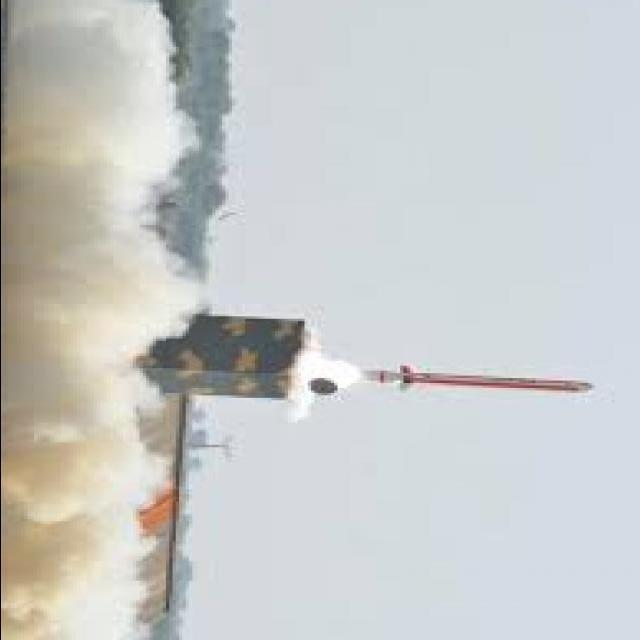missile: (374, 358, 598, 402)
